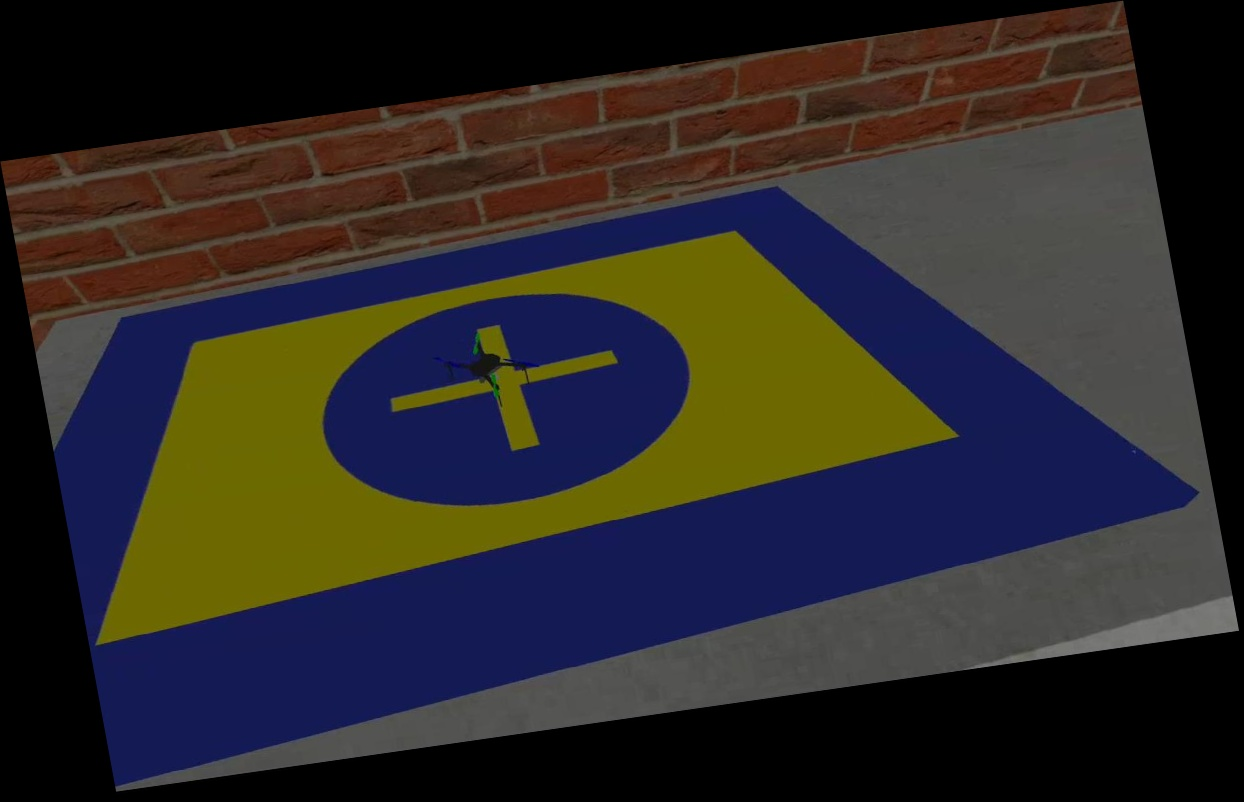large_base: (25, 136, 1222, 790)
